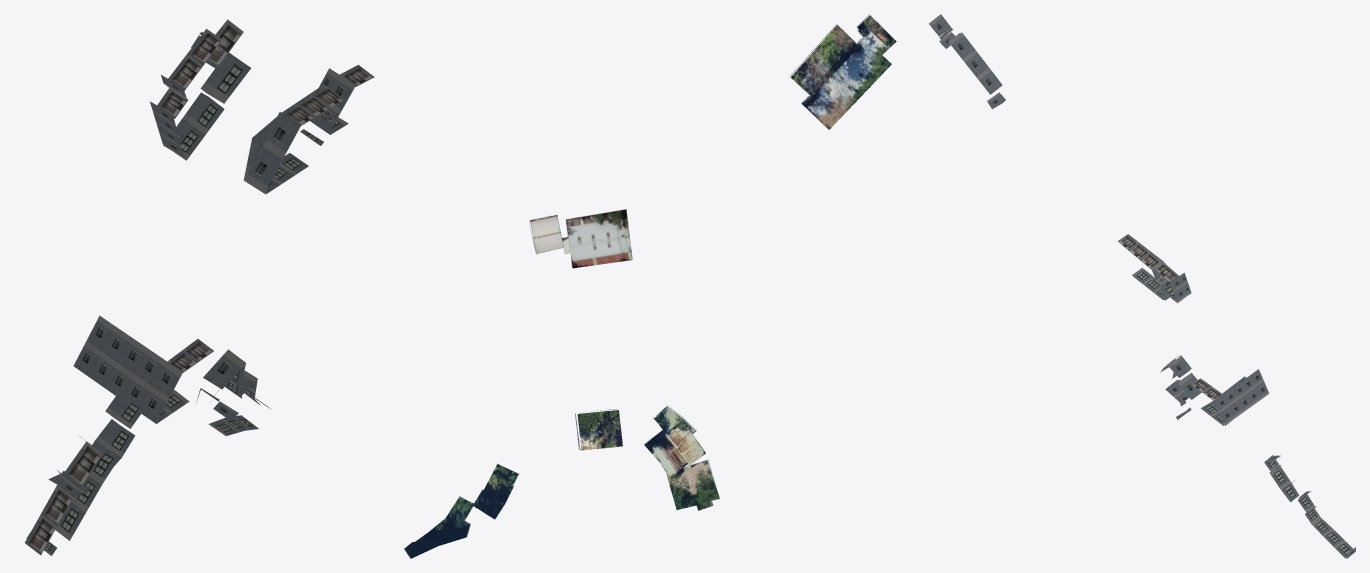
File: tile_LOD4_r14_c11.glb
3 views of the same model, side by side, from view 1: azimuth 30°, elevation 25°; view 2: azimuth 150°, elevation 25°; view 3: azimuth 270°, elevation 25° (orthographic). The views are drawn at different scales.
Size of the model in its own units: 87.25 by 134 by 122.
10 materials, 10 textured.
